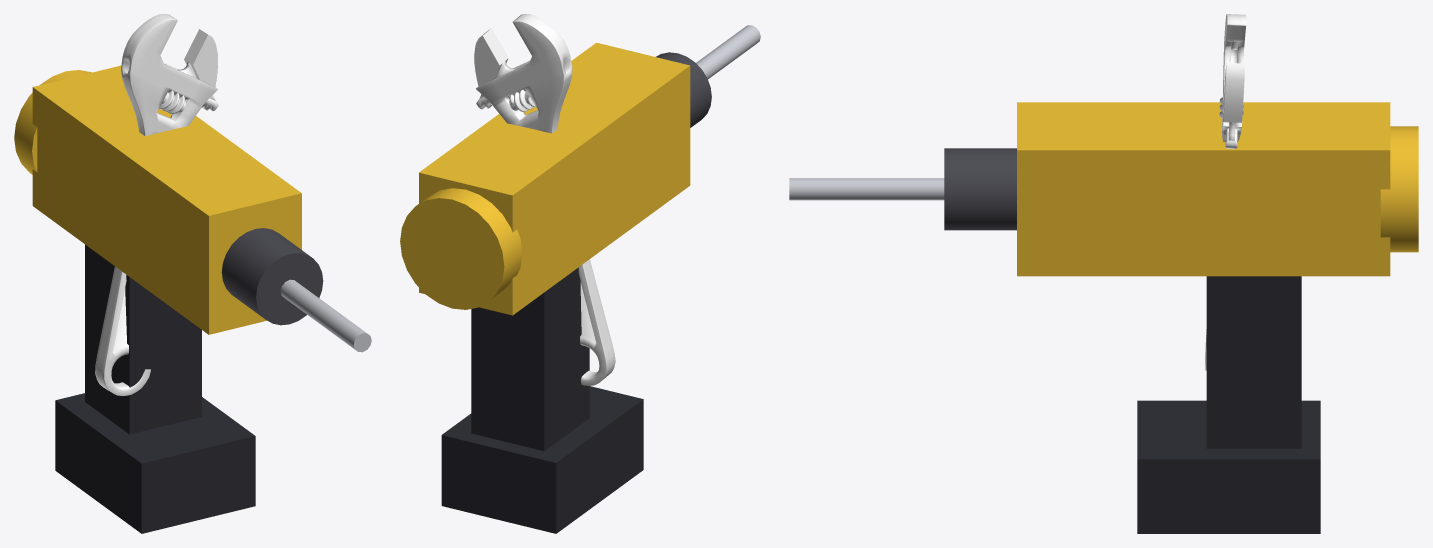
Rendered from classic.glb.
The picture shows the model from 3 angles, left to right: view 1: azimuth 30°, elevation 25°; view 2: azimuth 150°, elevation 25°; view 3: azimuth 270°, elevation 25°; orthographic projection. The views are drawn at different scales.
Visible parts, largest first — view 1: anchor_pos, anchor_neg; view 2: anchor_pos, anchor_neg; view 3: anchor_pos, anchor_neg.
Boxes of the visible parts, bbox=[...] form: anchor_pos: bbox=[14, 65, 371, 533]; anchor_neg: bbox=[95, 14, 218, 396]; anchor_pos: bbox=[400, 25, 760, 533]; anchor_neg: bbox=[474, 14, 615, 385]; anchor_pos: bbox=[789, 102, 1418, 533]; anchor_neg: bbox=[1205, 14, 1246, 370].
Bounding box in the file's own units: 0.078 × 0.2797 × 0.3231.
